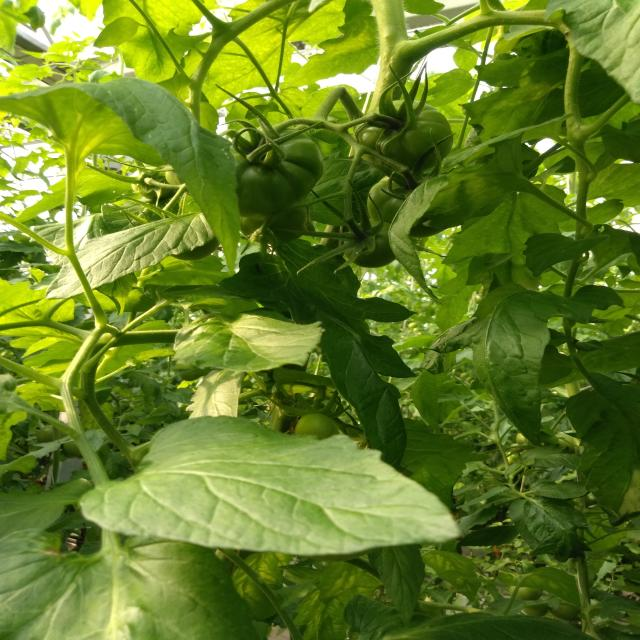n-unriped: (226, 124, 324, 218), (354, 100, 454, 172), (367, 170, 455, 238), (240, 195, 314, 245), (344, 220, 404, 268), (294, 412, 333, 440)
